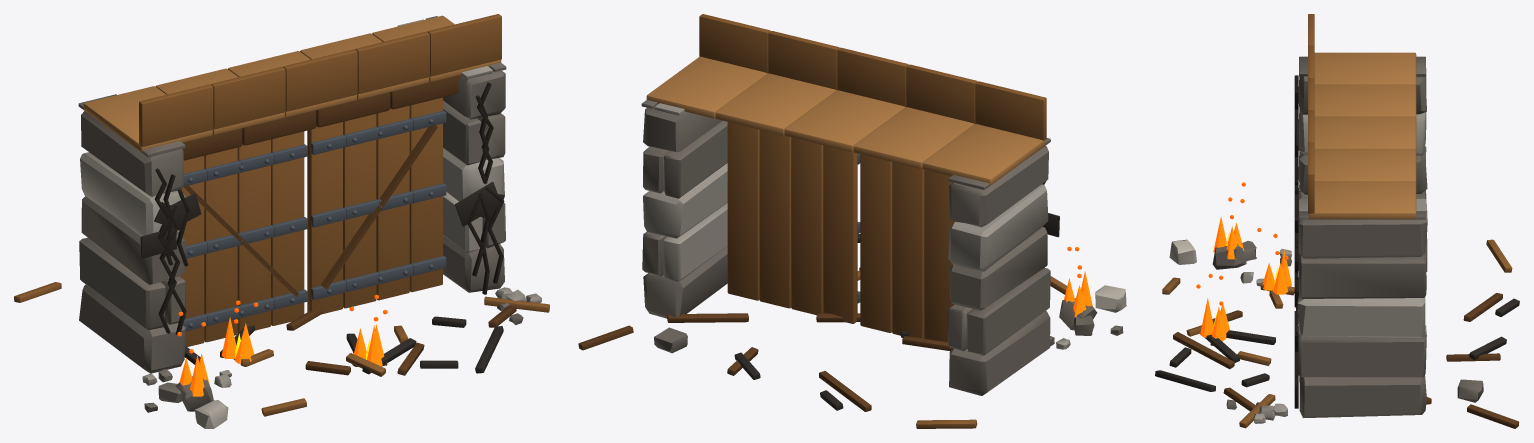
Rendered from brama_etap3.glb.
3 renders of one model, left to right at view 1: azimuth 30°, elevation 25°; view 2: azimuth 150°, elevation 25°; view 3: azimuth 270°, elevation 25°, orthographic. The views are drawn at different scales.
Parts seen in each view (by area): view 1: brama_etap3; view 2: brama_etap3; view 3: brama_etap3.
Boxes of the visible parts, x1,y1,x2,y2 form: brama_etap3: (14,14,549,428); brama_etap3: (578,14,1126,428); brama_etap3: (1155,14,1519,428).
Bounding box in the file's own units: 8.94 × 5.67 × 7.47.
